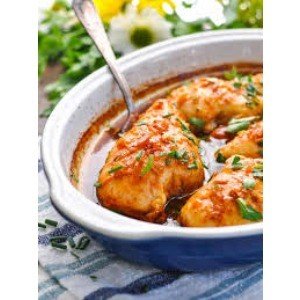chicken breast_brain food: (101, 146, 179, 213), (188, 76, 242, 121)
